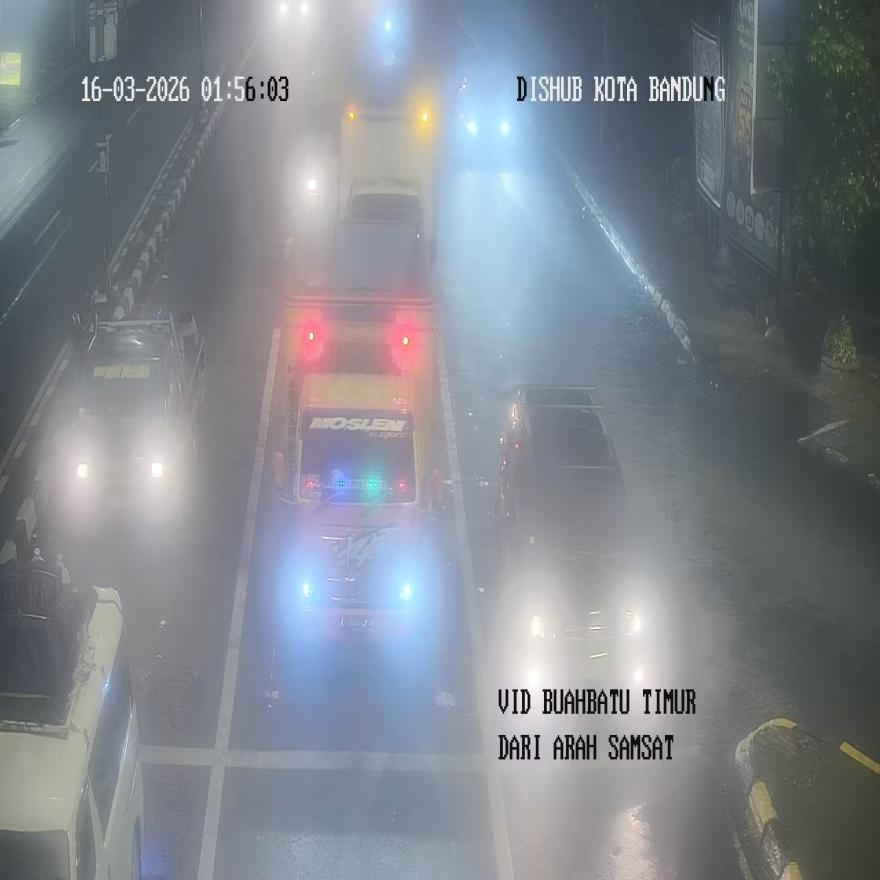Motor: (495, 385, 660, 700), (0, 585, 144, 877), (63, 310, 206, 531)
